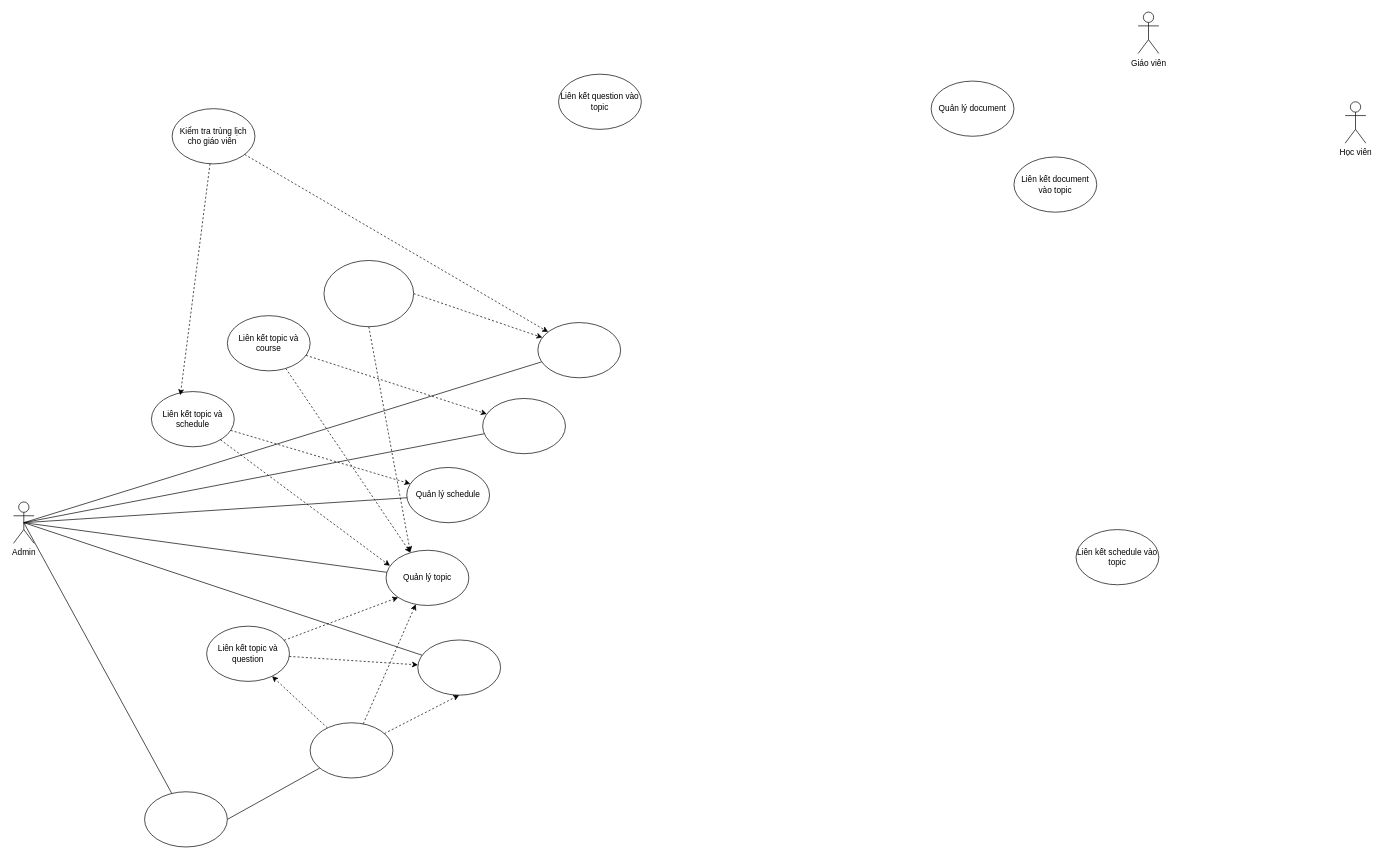
Image size: 1383x859. Some labels were removed from this diagram. Here are the shapes that lost their labels. From the top down, the box of each, then its label:
(323, 260, 414, 327): Liên kết hồ sơ giáo viên và topic
(537, 322, 621, 378): Quản lý hồ sơ học viên/ giáo viên
(482, 398, 565, 454): Quản lý course
(417, 639, 501, 695): Quản lý question
(309, 722, 393, 778): Random question theo topic
(144, 791, 227, 847): Quản lý exam/test
